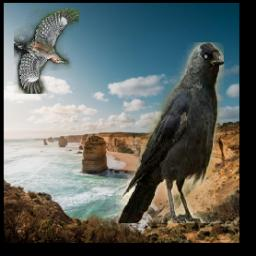Crow: (117, 43, 225, 224)
Woodpecker: (15, 9, 80, 95)
